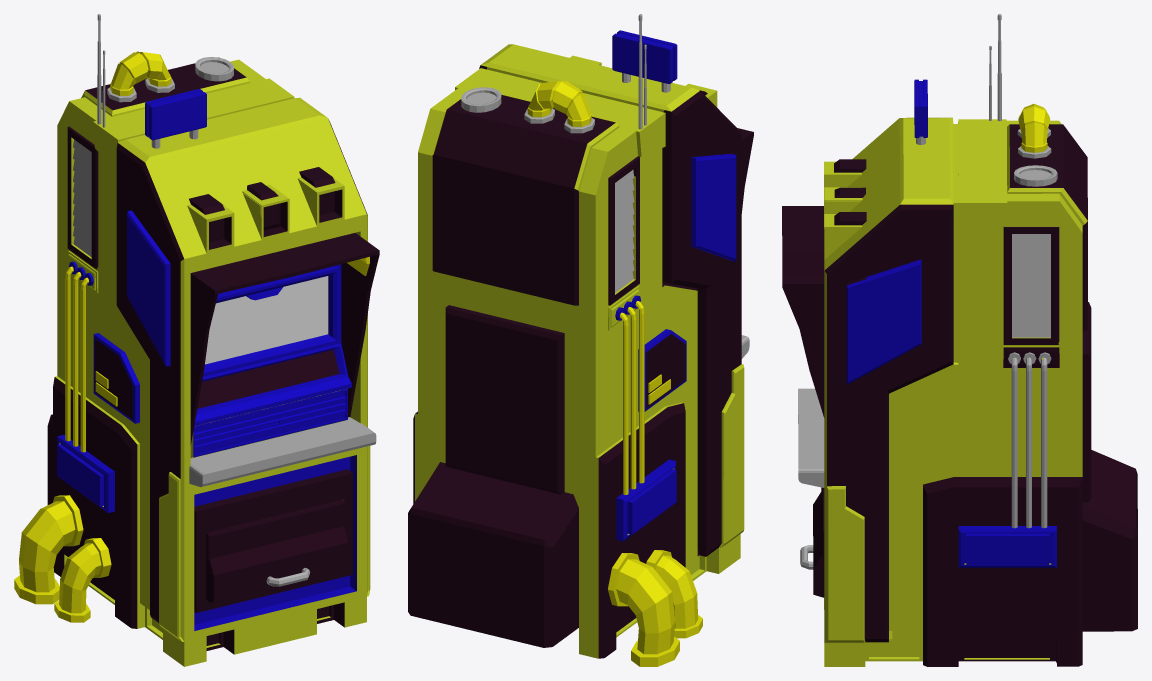
File: Employee-Terminal.fbx
3 renders of one model, left to right at view 1: azimuth 30°, elevation 25°; view 2: azimuth 150°, elevation 25°; view 3: azimuth 270°, elevation 25°, orthographic. The views are drawn at different scales.
Parts seen in each view (by area): view 1: Terminal; view 2: Terminal; view 3: Terminal.
Boxes of the visible parts, x1,y1,x2,y2 form: Terminal: (14, 14, 379, 666); Terminal: (408, 14, 753, 666); Terminal: (782, 14, 1137, 666).
Bounding box in the file's own units: 206 × 267 × 471.
